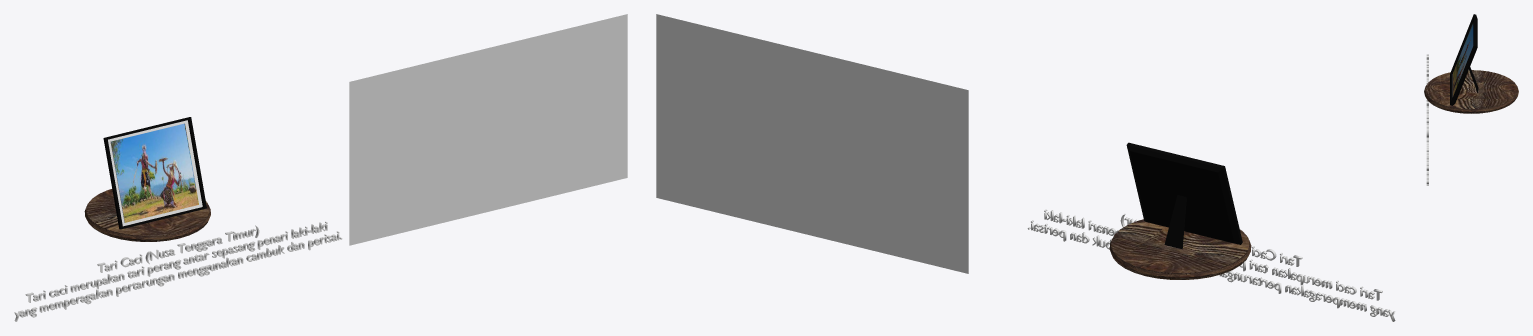
File: 19. Tari caci (NTT).fbx
3 views of the same model, side by side, from view 1: azimuth 30°, elevation 25°; view 2: azimuth 150°, elevation 25°; view 3: azimuth 270°, elevation 25° (orthographic). The views are drawn at different scales.
Visible parts, largest first — view 1: Plane, Cube.009, Text; view 2: Plane, Cube.009, Text; view 3: Cube.009, Text.
Part boxes in pixels (left/top/right/bottom): Plane: left=349, top=14, right=627, bottom=245; Cube.009: left=84, top=117, right=210, bottom=241; Text: left=14, top=221, right=342, bottom=321; Plane: left=656, top=14, right=968, bottom=273; Cube.009: left=1109, top=142, right=1251, bottom=279; Text: left=1027, top=209, right=1395, bottom=321; Cube.009: left=1424, top=14, right=1518, bottom=113; Text: left=1426, top=54, right=1428, bottom=185.
Size of the model in its own units: 7306 by 1800 by 1260.
Materials: 6 (3 with a texture image).
